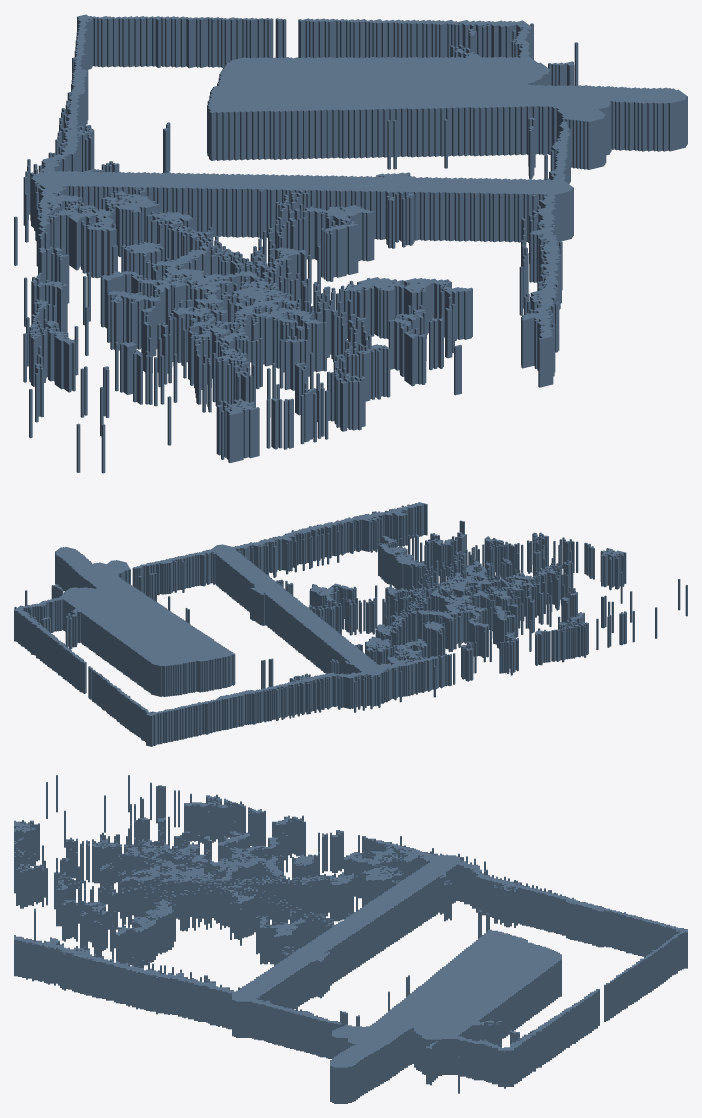
File: obstacles.dae
3 renders of one model, top to bottom at view 1: azimuth 30°, elevation 25°; view 2: azimuth 150°, elevation 25°; view 3: azimuth 270°, elevation 25°, orthographic. The views are drawn at different scales.
Visible parts, largest first — view 1: map; view 2: map; view 3: map.
Boxes of the visible parts, left/top/right/bottom form: map: left=14, top=14, right=687, bottom=473; map: left=14, top=502, right=687, bottom=746; map: left=14, top=775, right=687, bottom=1103.
Size of the model in its own units: 17.3 by 16.85 by 1.
